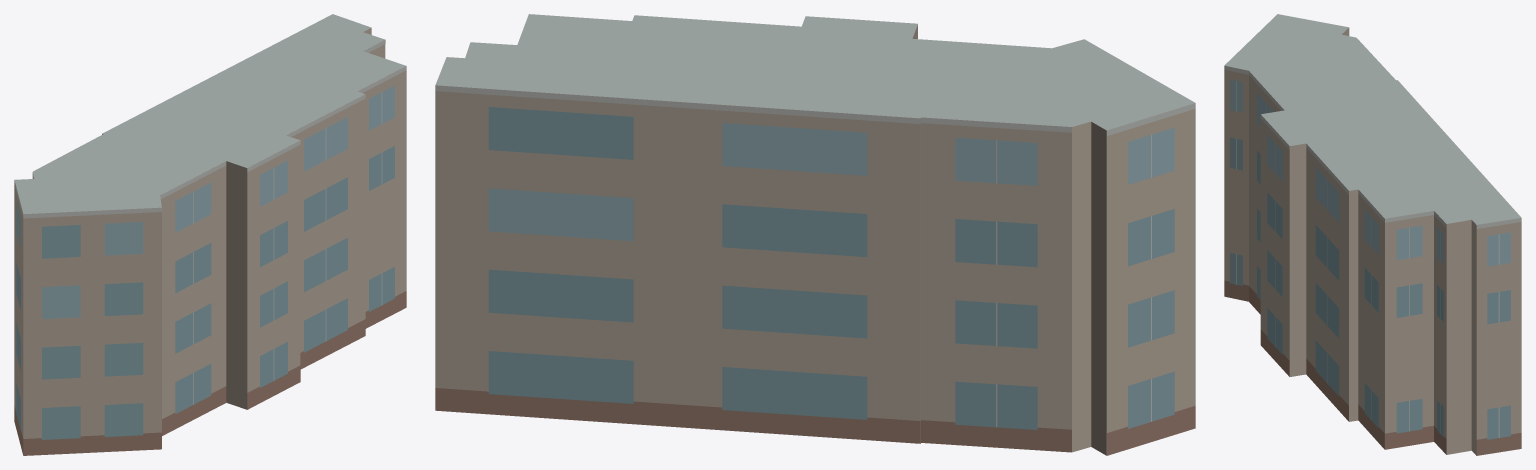
Rendered from survey-upis-32925469.glb.
The picture shows the model from 3 angles, left to right: view 1: azimuth 30°, elevation 25°; view 2: azimuth 150°, elevation 25°; view 3: azimuth 270°, elevation 25°; orthographic projection. The views are drawn at different scales.
Parts seen in each view (by area): view 1: survey-upis-32925469.tmp; view 2: survey-upis-32925469.tmp; view 3: survey-upis-32925469.tmp.
Boxes of the visible parts, x1,y1,x2,y2 form: survey-upis-32925469.tmp: (14,14,406,455); survey-upis-32925469.tmp: (435,14,1195,455); survey-upis-32925469.tmp: (1224,14,1521,455).
Size of the model in its own units: 27.12 by 13.84 by 16.17.
